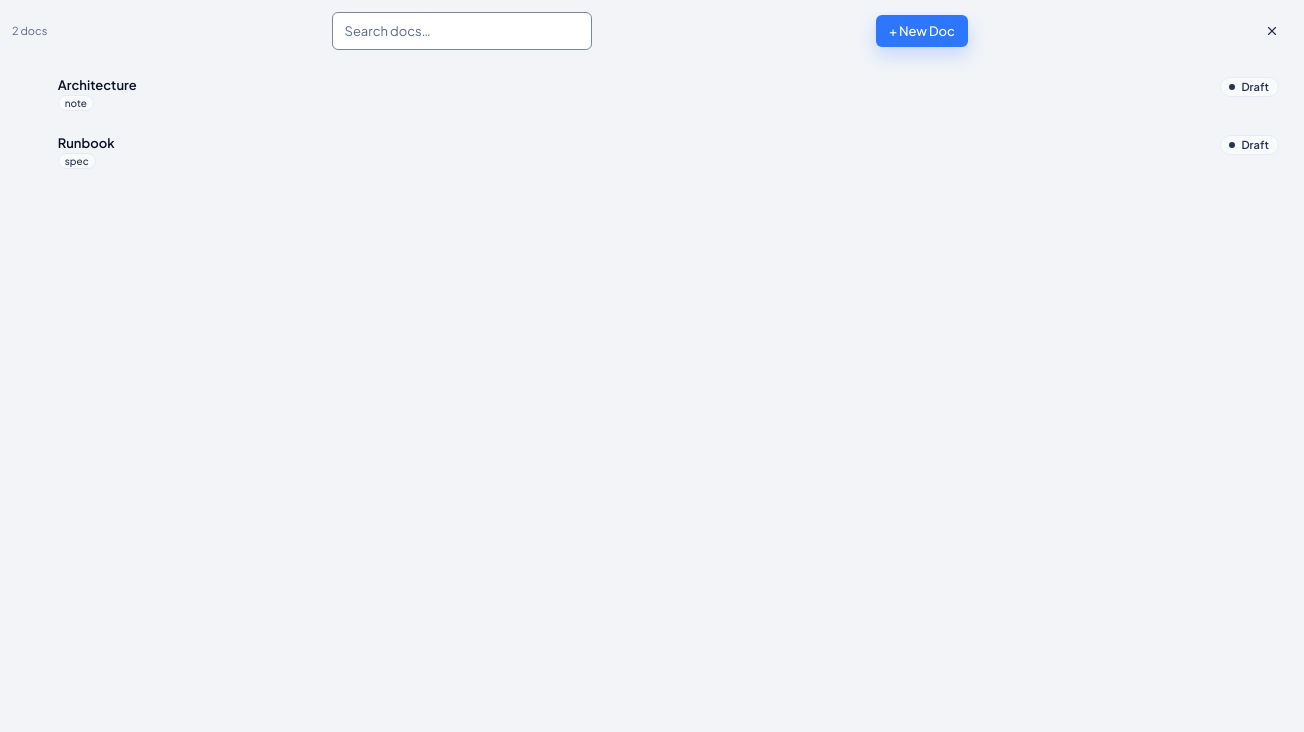
Test: Docs connections stay live across create/delete (Codex #173 P2) › deleting a document drops it as a target and prunes any connection to it
Click the text "Architecture" at (97, 85), box [58,77,137,93]
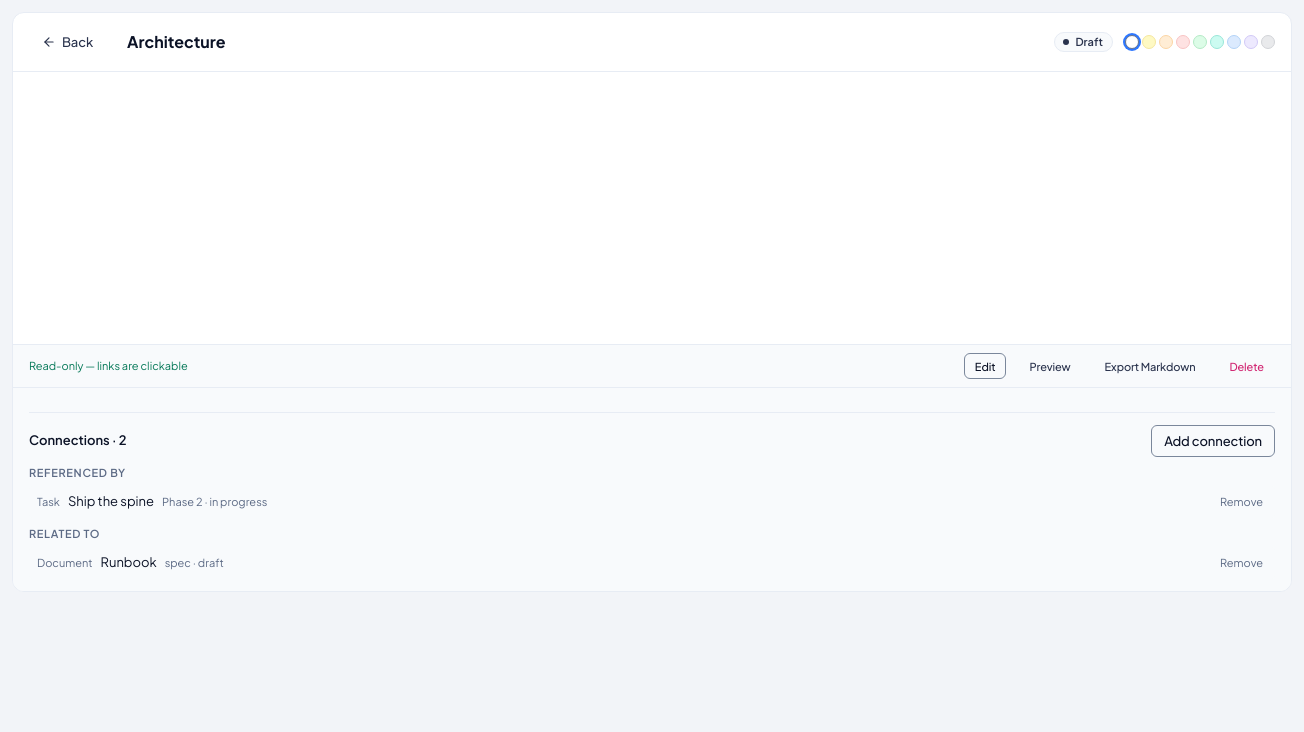
Expected: the text "Runbook" is shown, [101,553,157,572]
Expected: the text "Related to" is shown, [29,527,100,540]
Click the button "Back" at (68, 42), box [29,26,106,58]
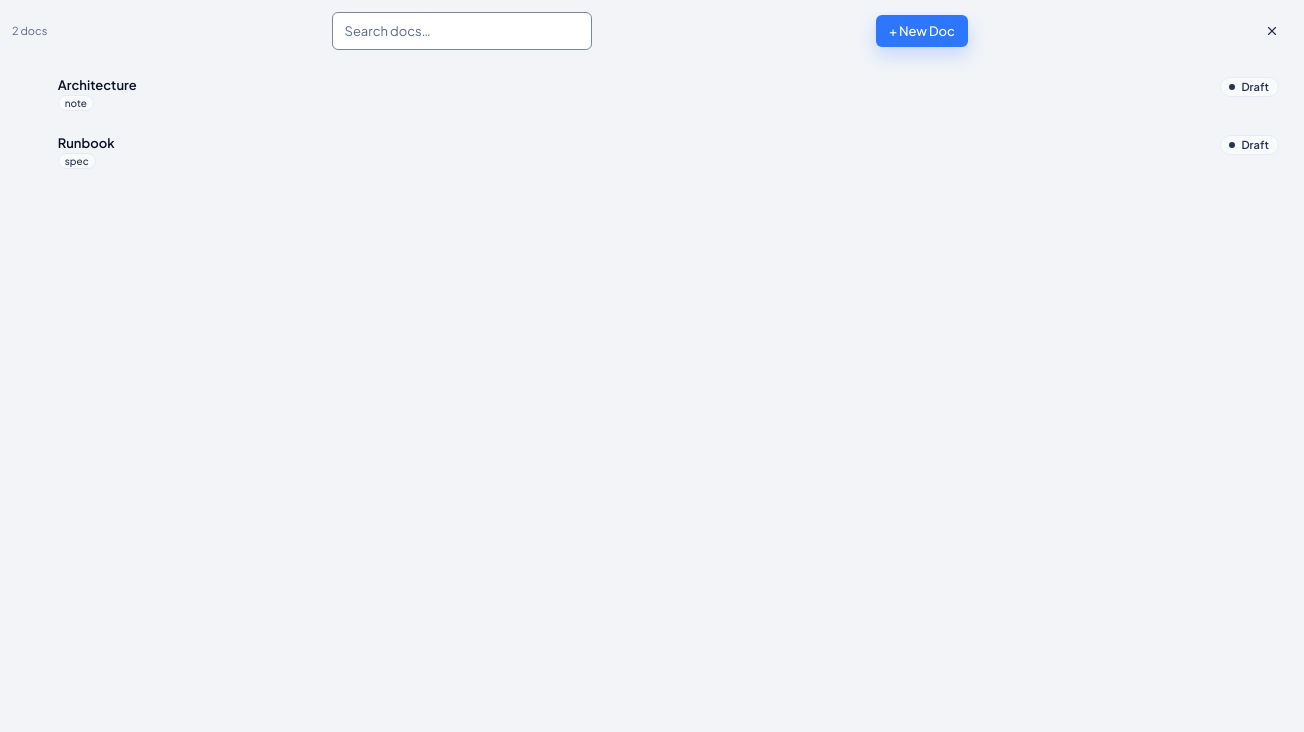
Click the text "Runbook" at (86, 143), box [58,135,115,151]
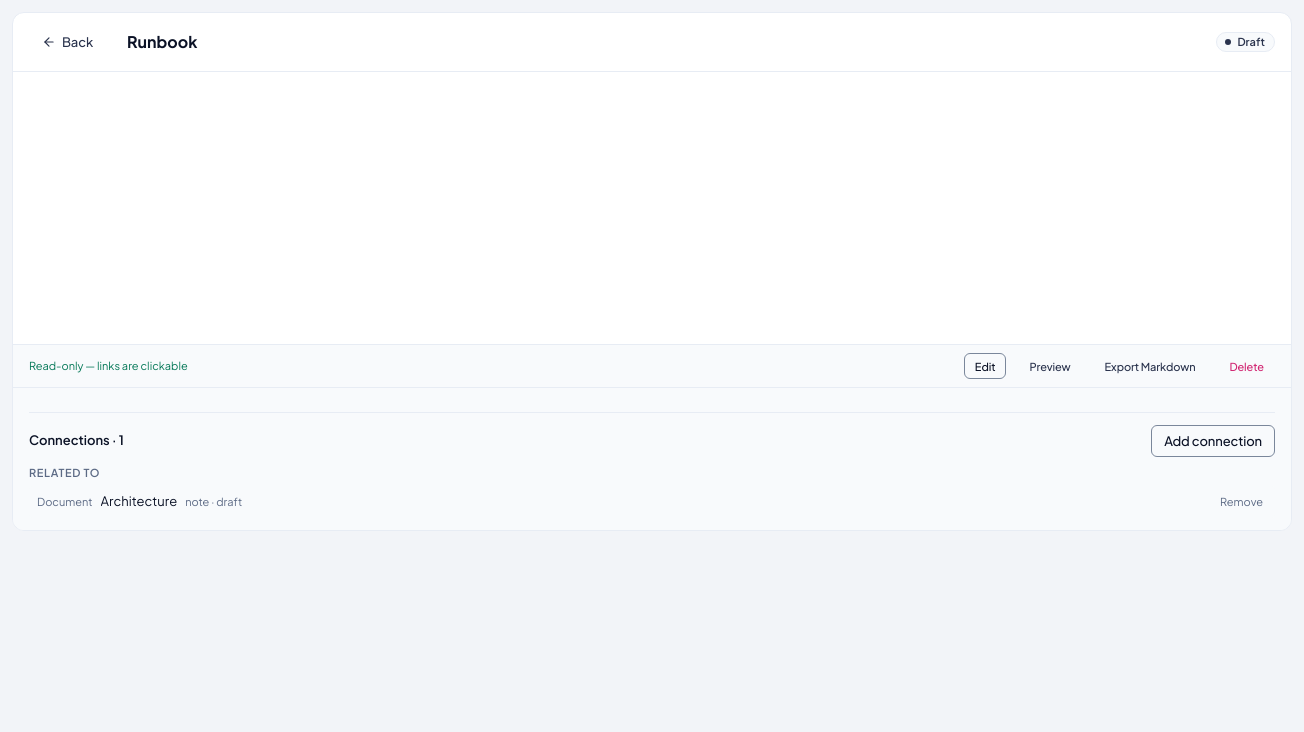
Expected: the field named "title" is shown, [118,25,1204,59]
Click the button "Delete" at (1247, 366), box [1218,353,1275,379]
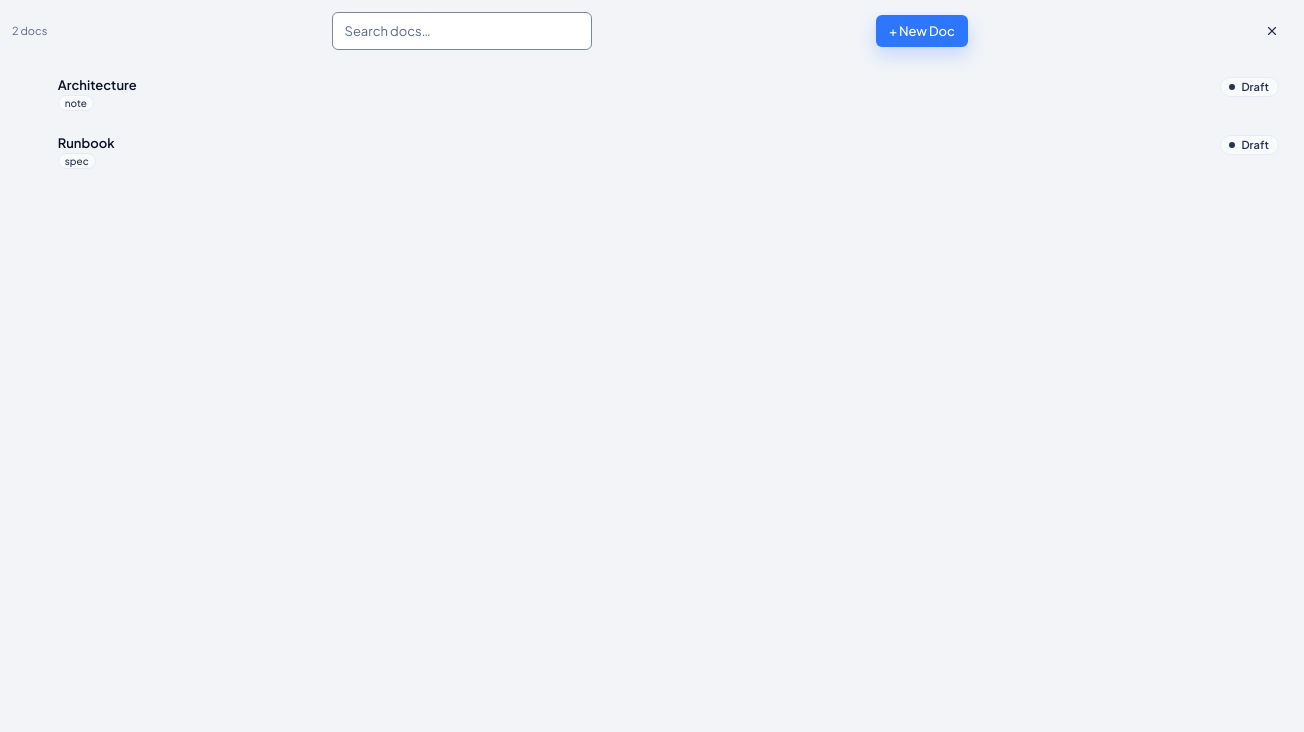
Click the text "Architecture" at (97, 85), box [58,77,137,93]
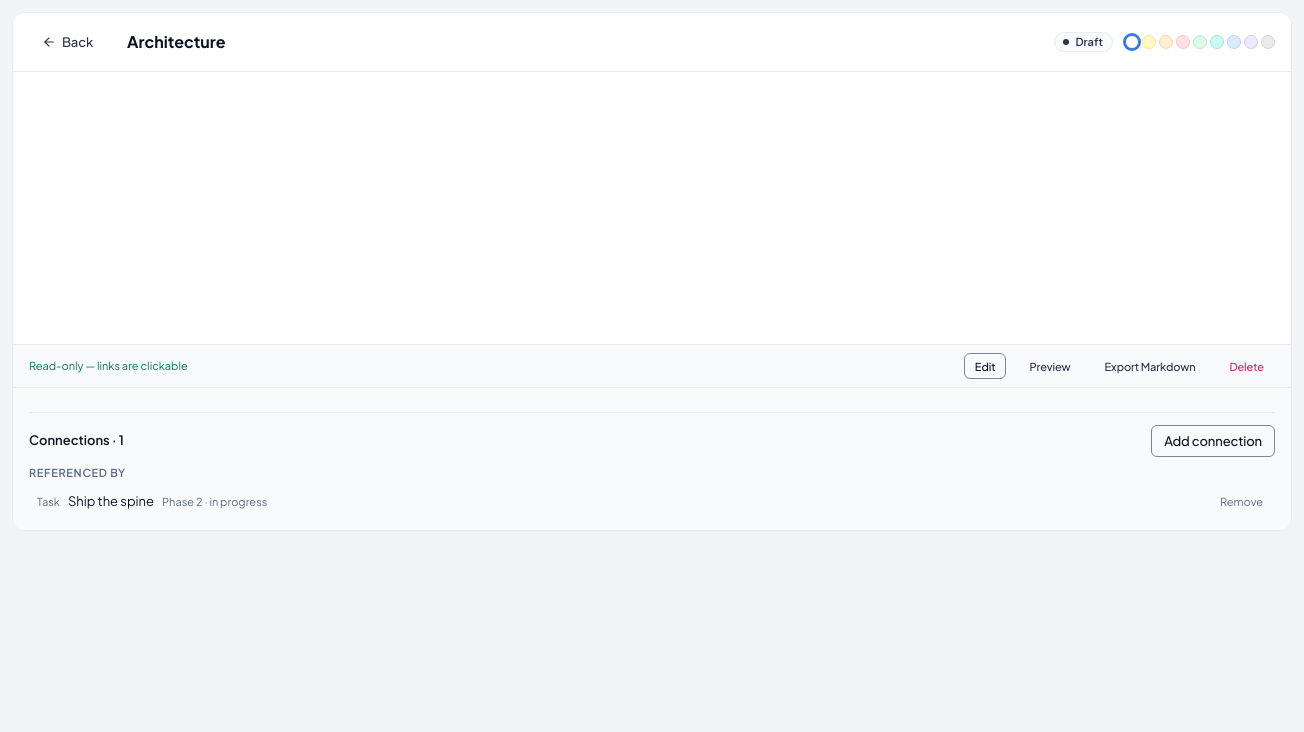
Expected: the text "Related to" is not shown
Expected: the text "Referenced by" is shown, [29,466,126,479]
Expected: the button "Runbook" is gone
